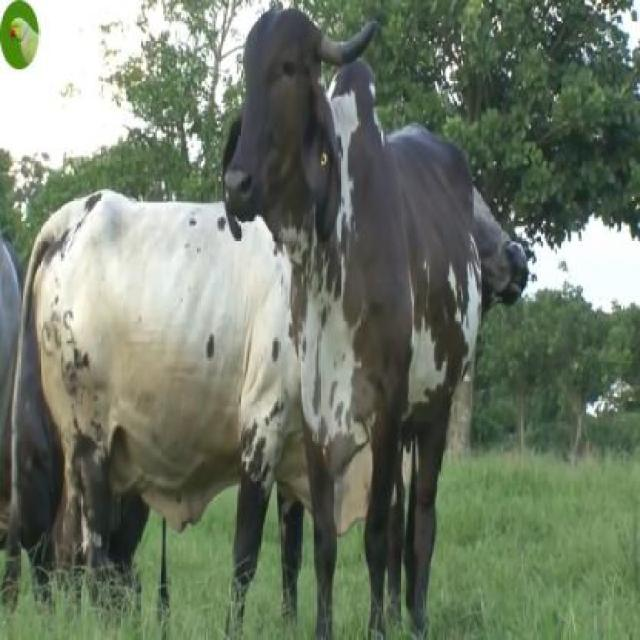Cow: (225, 2, 483, 636)
